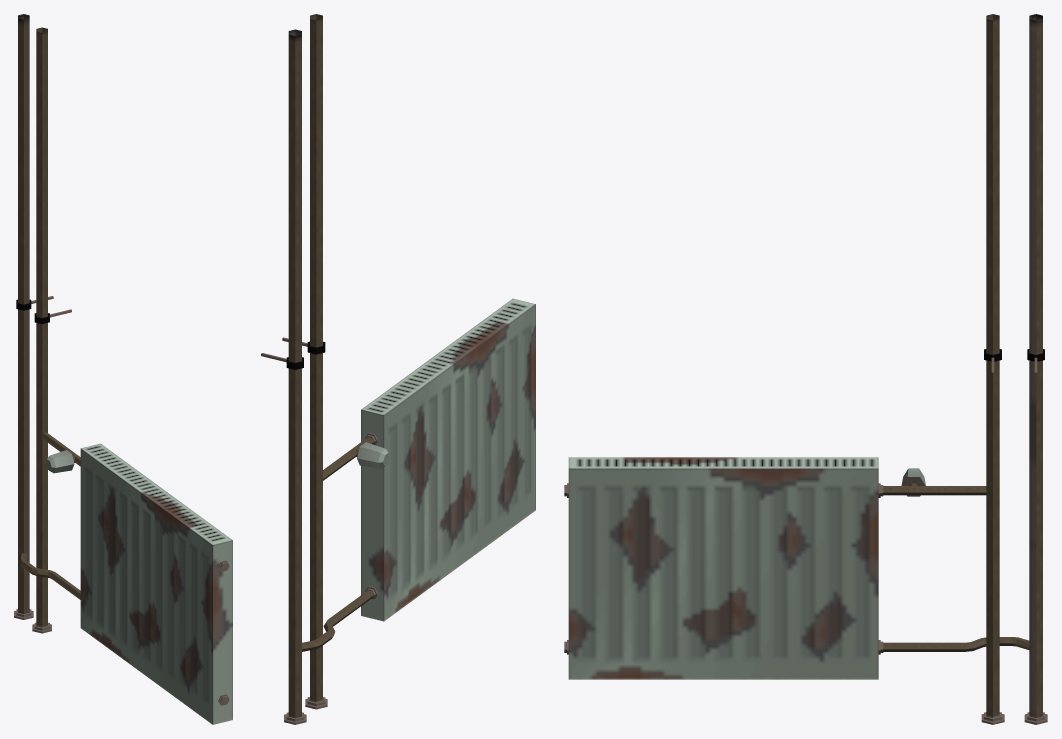
File: obj_radiator.fbx
3 views of the same model, side by side, from view 1: azimuth 30°, elevation 25°; view 2: azimuth 150°, elevation 25°; view 3: azimuth 270°, elevation 25° (orthographic). The views are drawn at different scales.
Parts seen in each view (by area): view 1: obj_radiator; view 2: obj_radiator; view 3: obj_radiator.
Part boxes in pixels (box(x1,y1,x2,y2)): obj_radiator: box(14, 14, 232, 724); obj_radiator: box(261, 14, 535, 724); obj_radiator: box(564, 14, 1047, 724).
Bounding box in the file's own units: 19.82 × 200 × 125.
